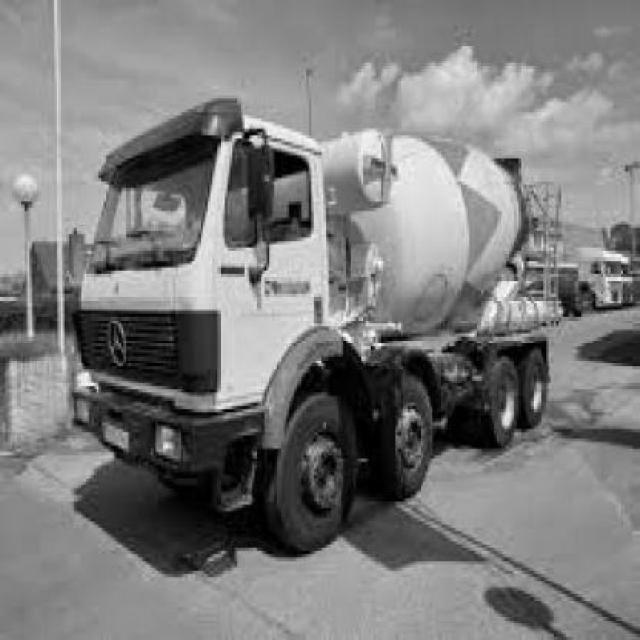Concrete Mixer: (75, 98, 552, 555)
